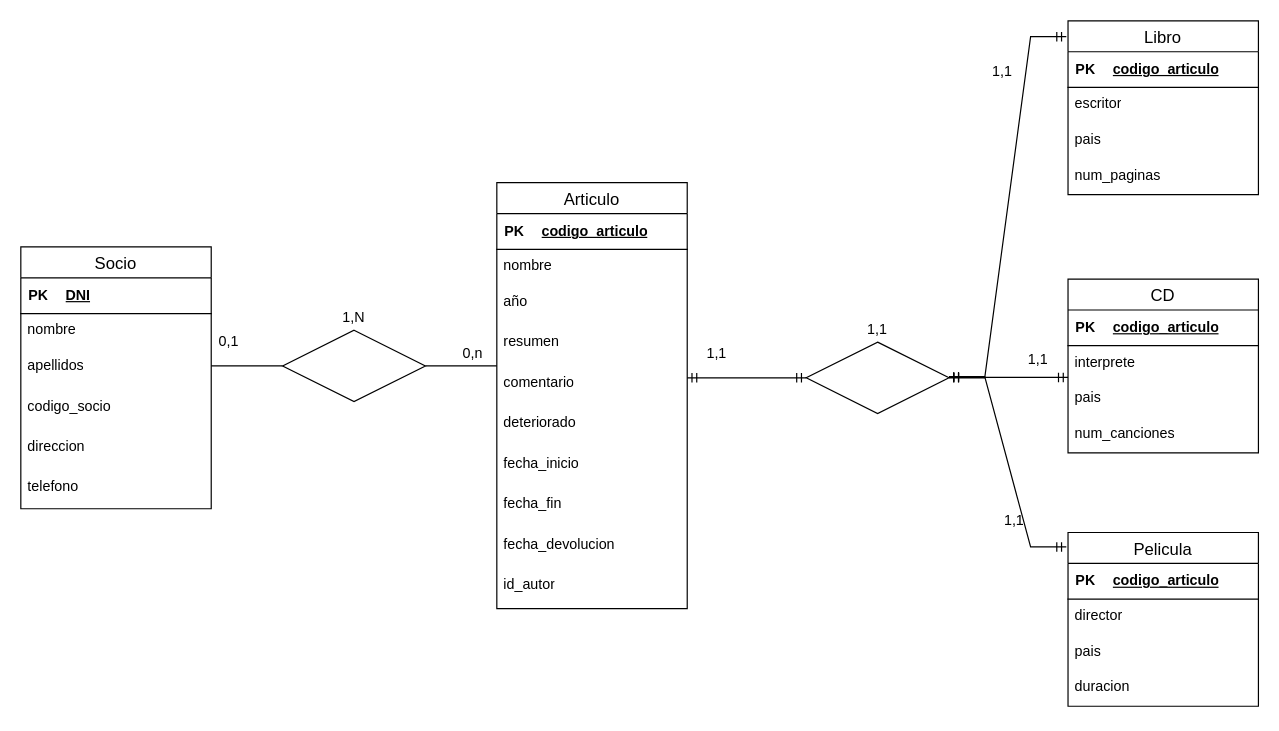
This 1279x731 diagram has some shape labels left out. The centre of each missing label's shape, as x and y in pixels:
Pertenece: point 877,377
Prestar: point 353,365
